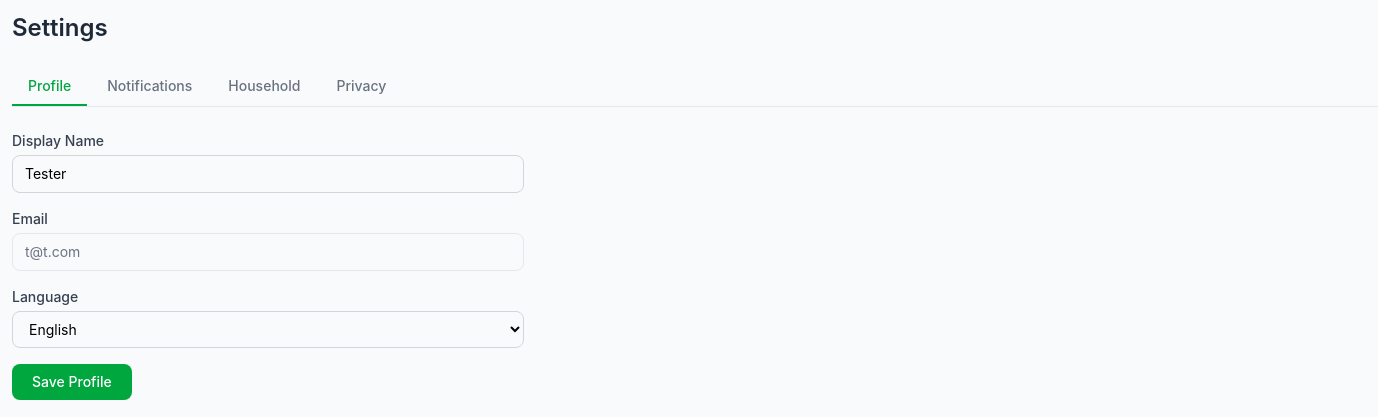
Notification preferences form › renders threshold input and channel toggles on the Notifications tab
# Click the "Notifications" tab
Click the tab "Notifications" at (150, 87), box [91,68,208,106]
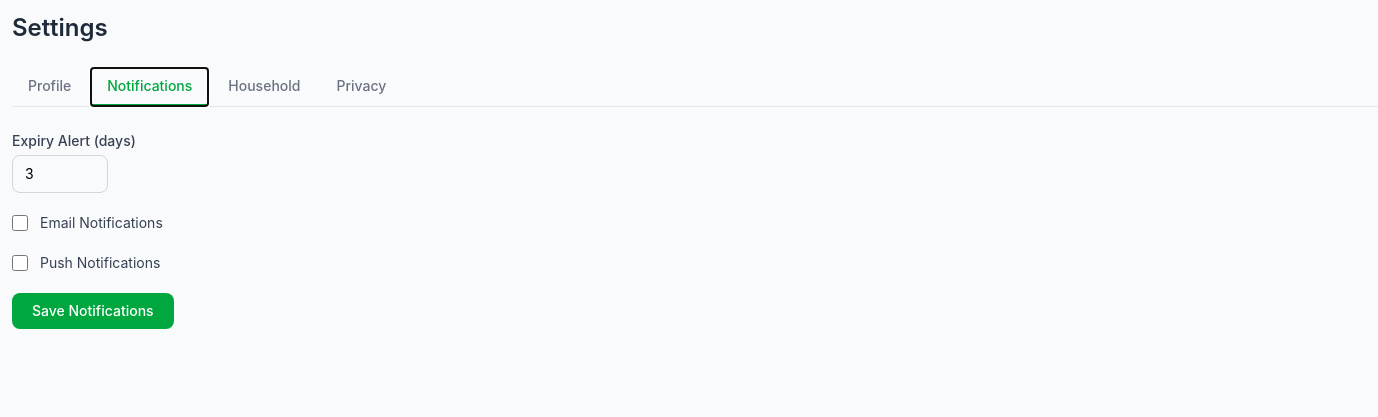
Check: the number field labelled "Expiry Alert (days)" is shown, box [12,155,108,193]
Check: the checkbox labelled "Email Notifications" is shown, box [12,215,28,231]
Check: the checkbox labelled "Push Notifications" is shown, box [12,255,28,271]
